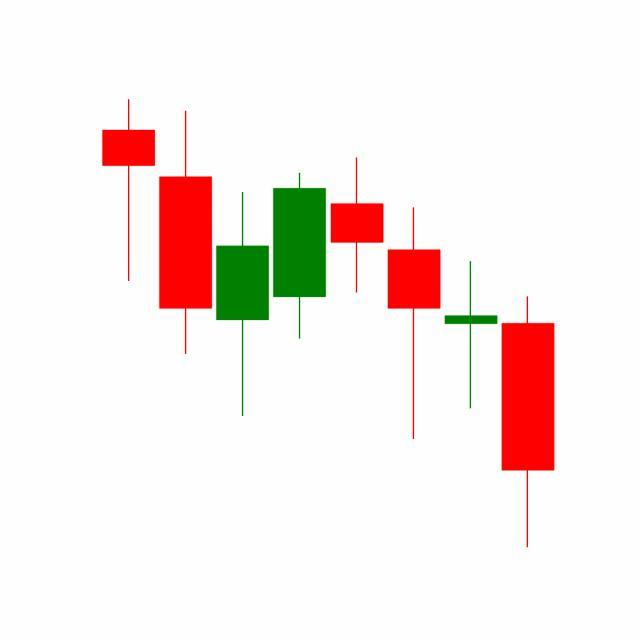Hikkake Pattern: (270, 153, 555, 549)
